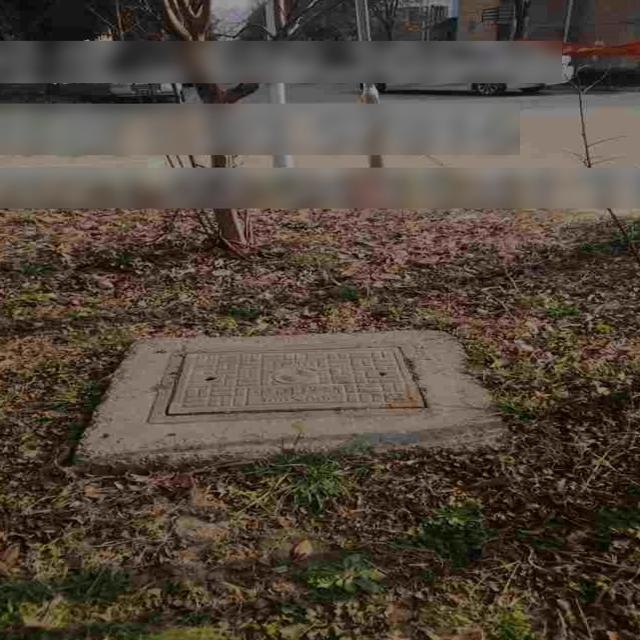good: (147, 340, 440, 421)
